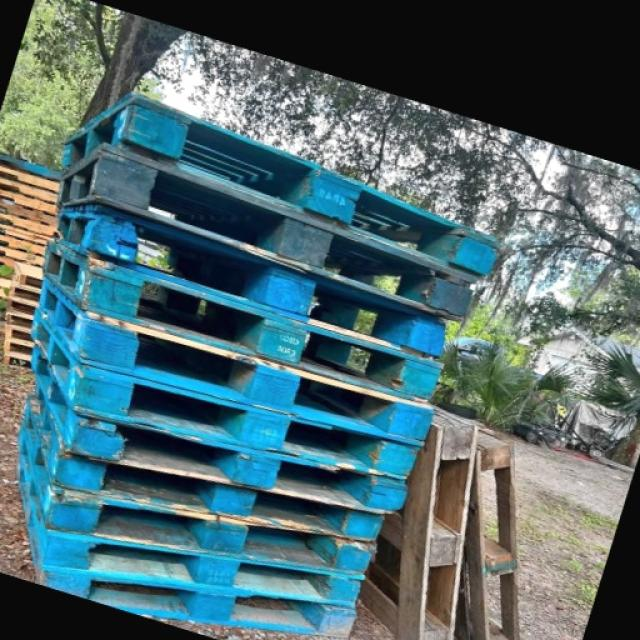non-igps: (47, 78, 505, 296), (32, 136, 484, 340), (28, 229, 452, 411), (21, 299, 427, 488), (29, 270, 437, 456), (25, 334, 415, 522), (45, 193, 451, 369), (21, 399, 382, 588), (20, 376, 390, 548), (345, 386, 491, 640), (34, 520, 375, 623), (30, 548, 363, 640), (449, 409, 525, 640), (0, 147, 64, 187), (0, 185, 62, 220), (0, 197, 61, 232), (0, 162, 61, 196), (0, 175, 61, 206), (0, 210, 60, 240), (0, 222, 56, 249), (0, 231, 50, 260), (4, 272, 44, 308), (0, 241, 49, 270), (10, 257, 47, 291), (2, 294, 46, 320), (1, 323, 37, 346), (0, 310, 38, 331), (0, 351, 36, 373), (0, 339, 36, 359)
